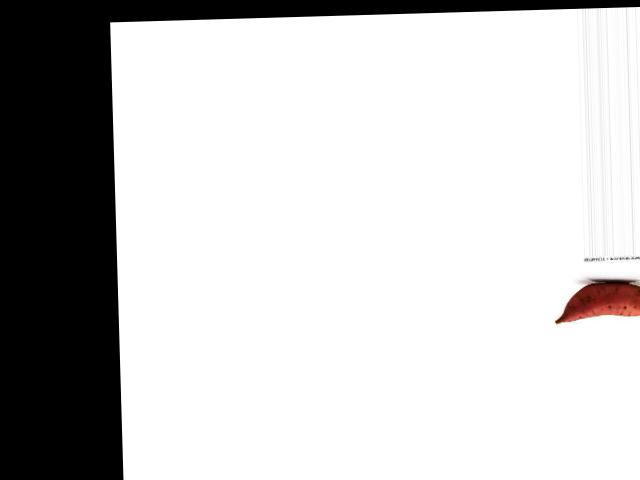sweet_potato: (553, 279, 640, 330)
